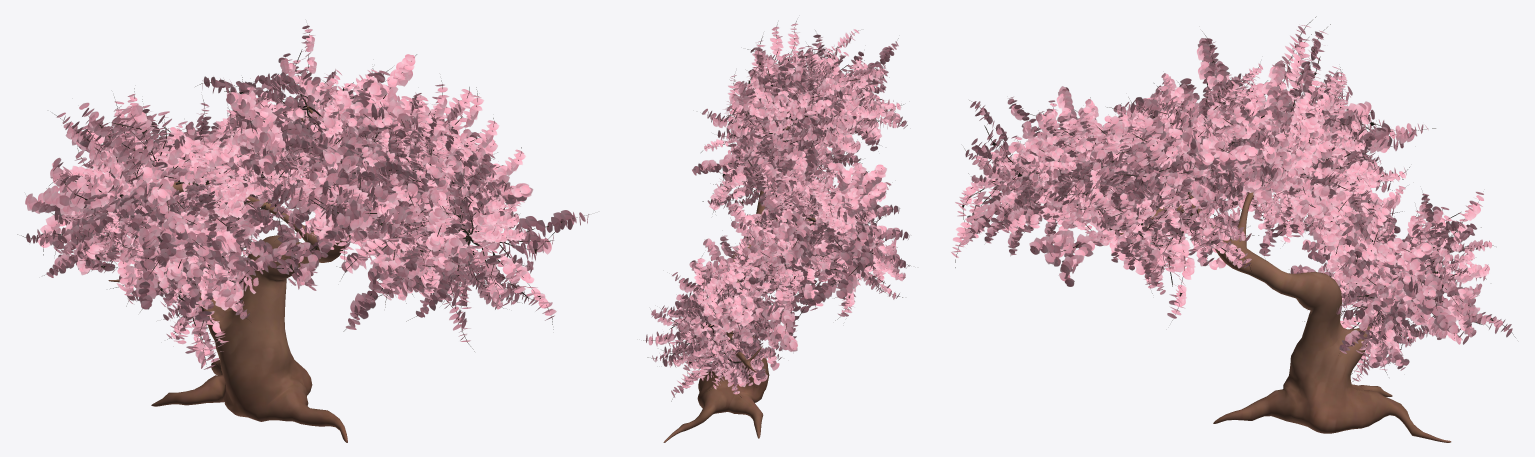
Rendered from sakura-lite.glb.
3 renders of one model, left to right at view 1: azimuth 30°, elevation 25°; view 2: azimuth 150°, elevation 25°; view 3: azimuth 270°, elevation 25°, orthographic. The views are drawn at different scales.
Visible parts, largest first — view 1: Object_4, Object_2, Object_42; view 2: Object_4, Object_2, Object_42; view 3: Object_4, Object_2, Object_42.
Part boxes in pixels (x1,y1,x2,y2): Object_4: [25, 25, 588, 369]; Object_2: [108, 106, 461, 442]; Object_42: [17, 28, 589, 368]; Object_4: [646, 23, 909, 397]; Object_2: [663, 118, 815, 442]; Object_42: [643, 21, 910, 401]; Object_4: [951, 25, 1512, 381]; Object_2: [1023, 101, 1451, 442]; Object_42: [955, 16, 1515, 381].
Bounding box in the file's own units: 3.73 × 3.66 × 4.99.
Materials: 3 (2 with a texture image).
